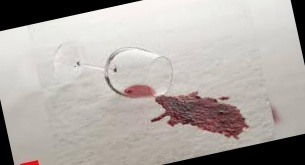wine: (146, 71, 252, 154)
